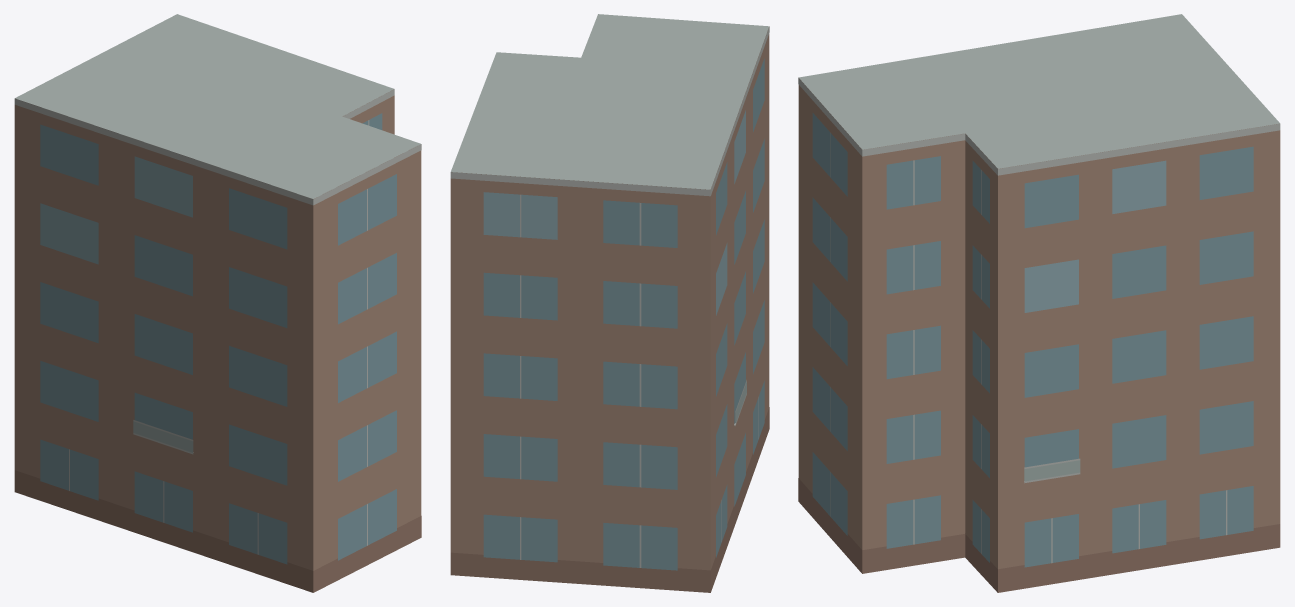
File: survey-upis-32867201.glb
3 renders of one model, left to right at view 1: azimuth 30°, elevation 25°; view 2: azimuth 150°, elevation 25°; view 3: azimuth 270°, elevation 25°, orthographic. The views are drawn at different scales.
Visible parts, largest first — view 1: survey-upis-32867201.tmp; view 2: survey-upis-32867201.tmp; view 3: survey-upis-32867201.tmp.
Boxes of the visible parts, x1=… form: survey-upis-32867201.tmp: x1=14, y1=14, x2=421, y2=592; survey-upis-32867201.tmp: x1=450, y1=14, x2=769, y2=592; survey-upis-32867201.tmp: x1=798, y1=14, x2=1280, y2=592.
Size of the model in its own units: 11.87 by 15.15 by 15.61.
